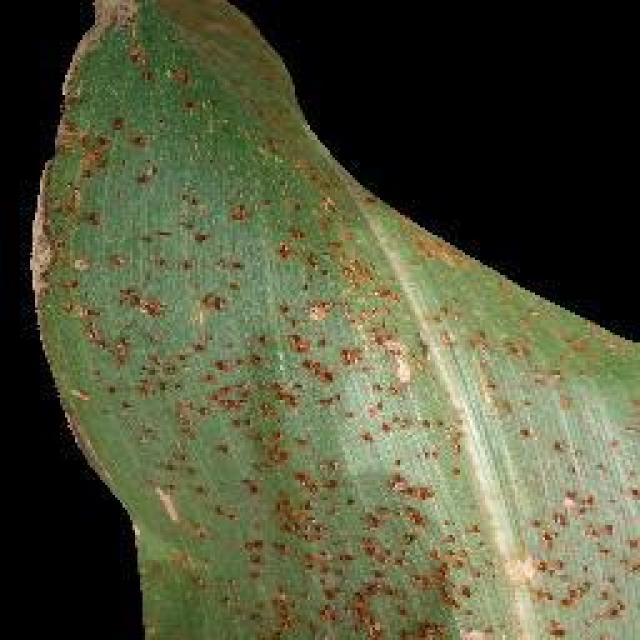Corn Common Rust: (64, 85, 588, 640)
